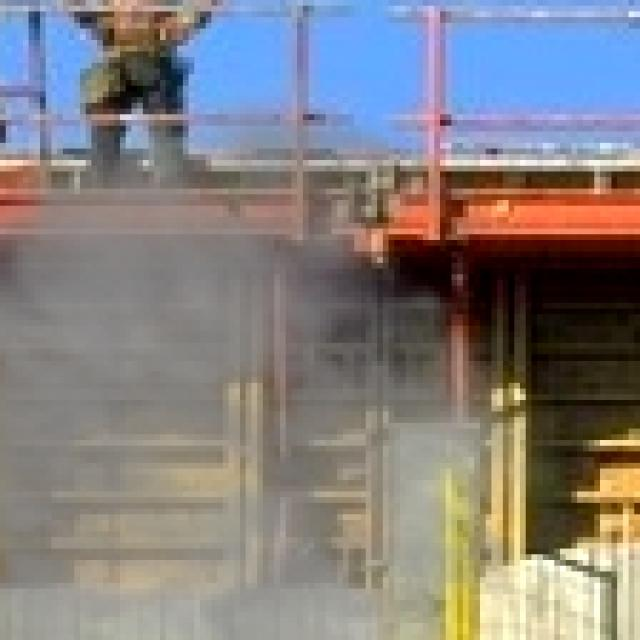smoke: (0, 45, 583, 640)
